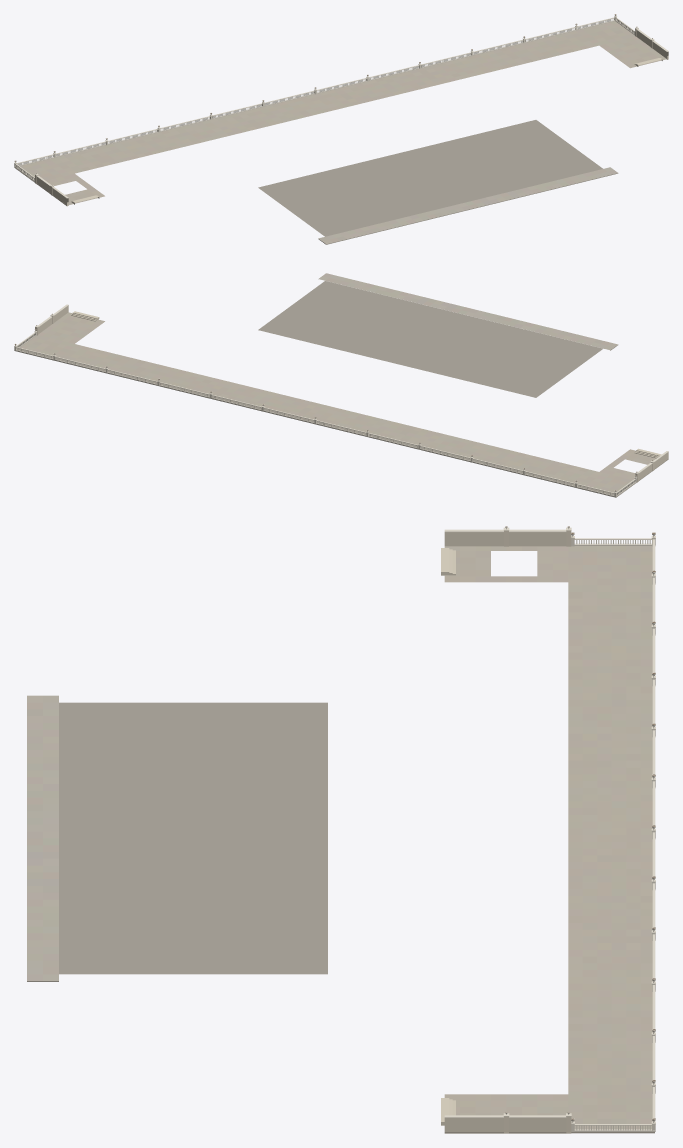
Rendered from SM_BM_BHip_StandTerrace.glb.
The picture shows the model from 3 angles, top to bottom: view 1: azimuth 30°, elevation 25°; view 2: azimuth 150°, elevation 25°; view 3: azimuth 270°, elevation 25°; orthographic projection. The views are drawn at different scales.
Visible parts, largest first — view 1: SM_BM_BHip_StandTerrace; view 2: SM_BM_BHip_StandTerrace; view 3: SM_BM_BHip_StandTerrace.
Part boxes in pixels (x1,y1,x2,y2): SM_BM_BHip_StandTerrace: (14, 14, 668, 244); SM_BM_BHip_StandTerrace: (14, 273, 668, 497); SM_BM_BHip_StandTerrace: (27, 526, 655, 1133).
Bounding box in the file's own units: 173 × 2.8 × 78.33.
